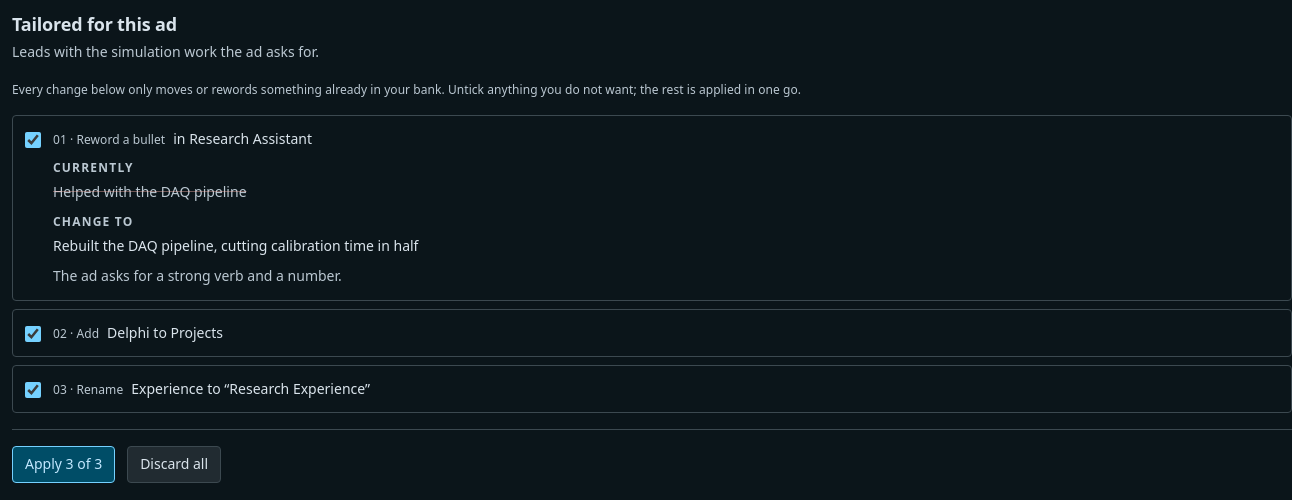
Test: ProposalReview / applying › has nothing to apply once every box is cleared
What coordinates should you click on to do the following:
click the 1st checkbox
I would click on:
 (33, 140)
Its box is [25,132,41,148].
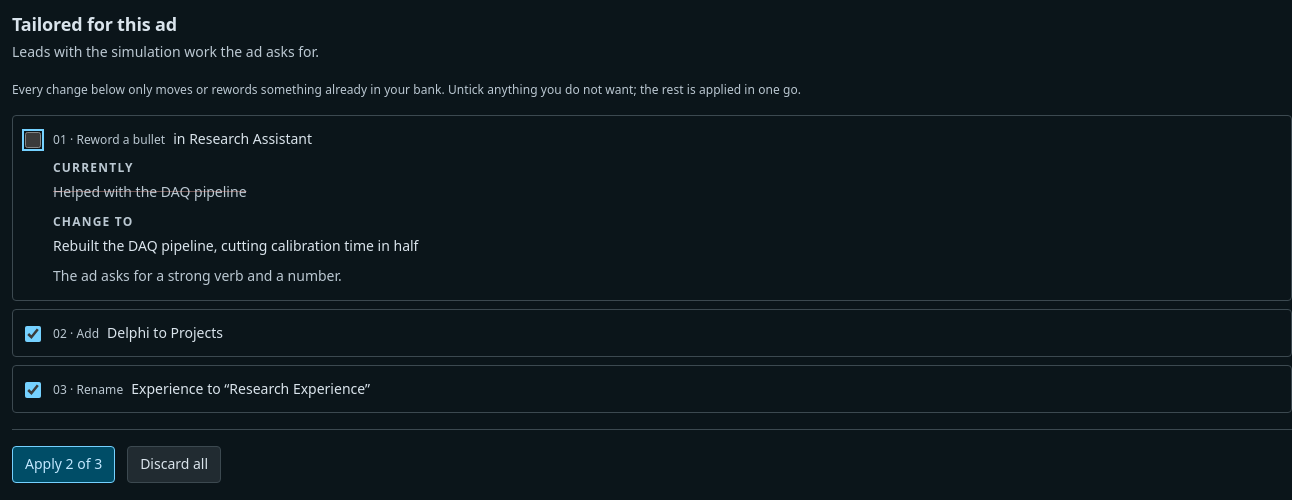
What coordinates should you click on to do the following:
click the 2nd checkbox
I would click on:
 (33, 334)
Its box is [25,326,41,342].
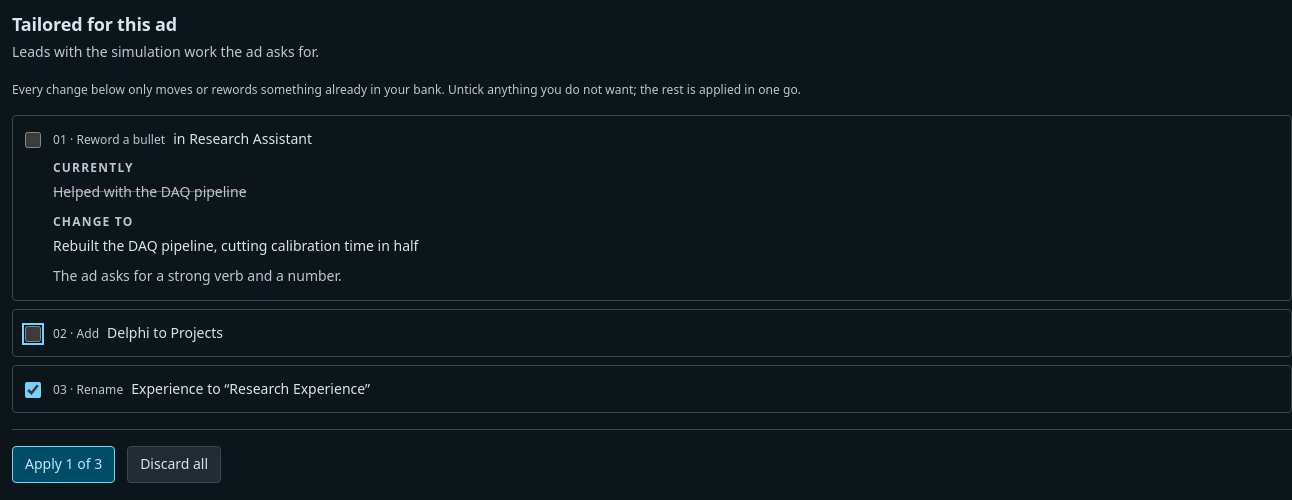
What coordinates should you click on to do the following:
click the 3rd checkbox
I would click on:
 (33, 390)
Its box is [25,382,41,398].
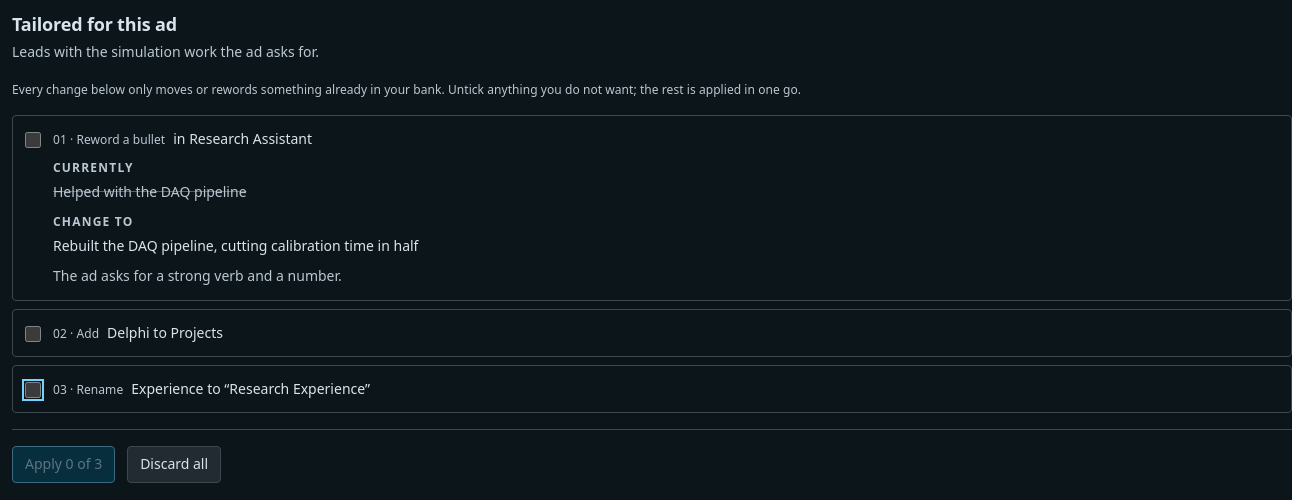
Expected: the button "Apply 0 of 3" is disabled, [12,446,115,483]
